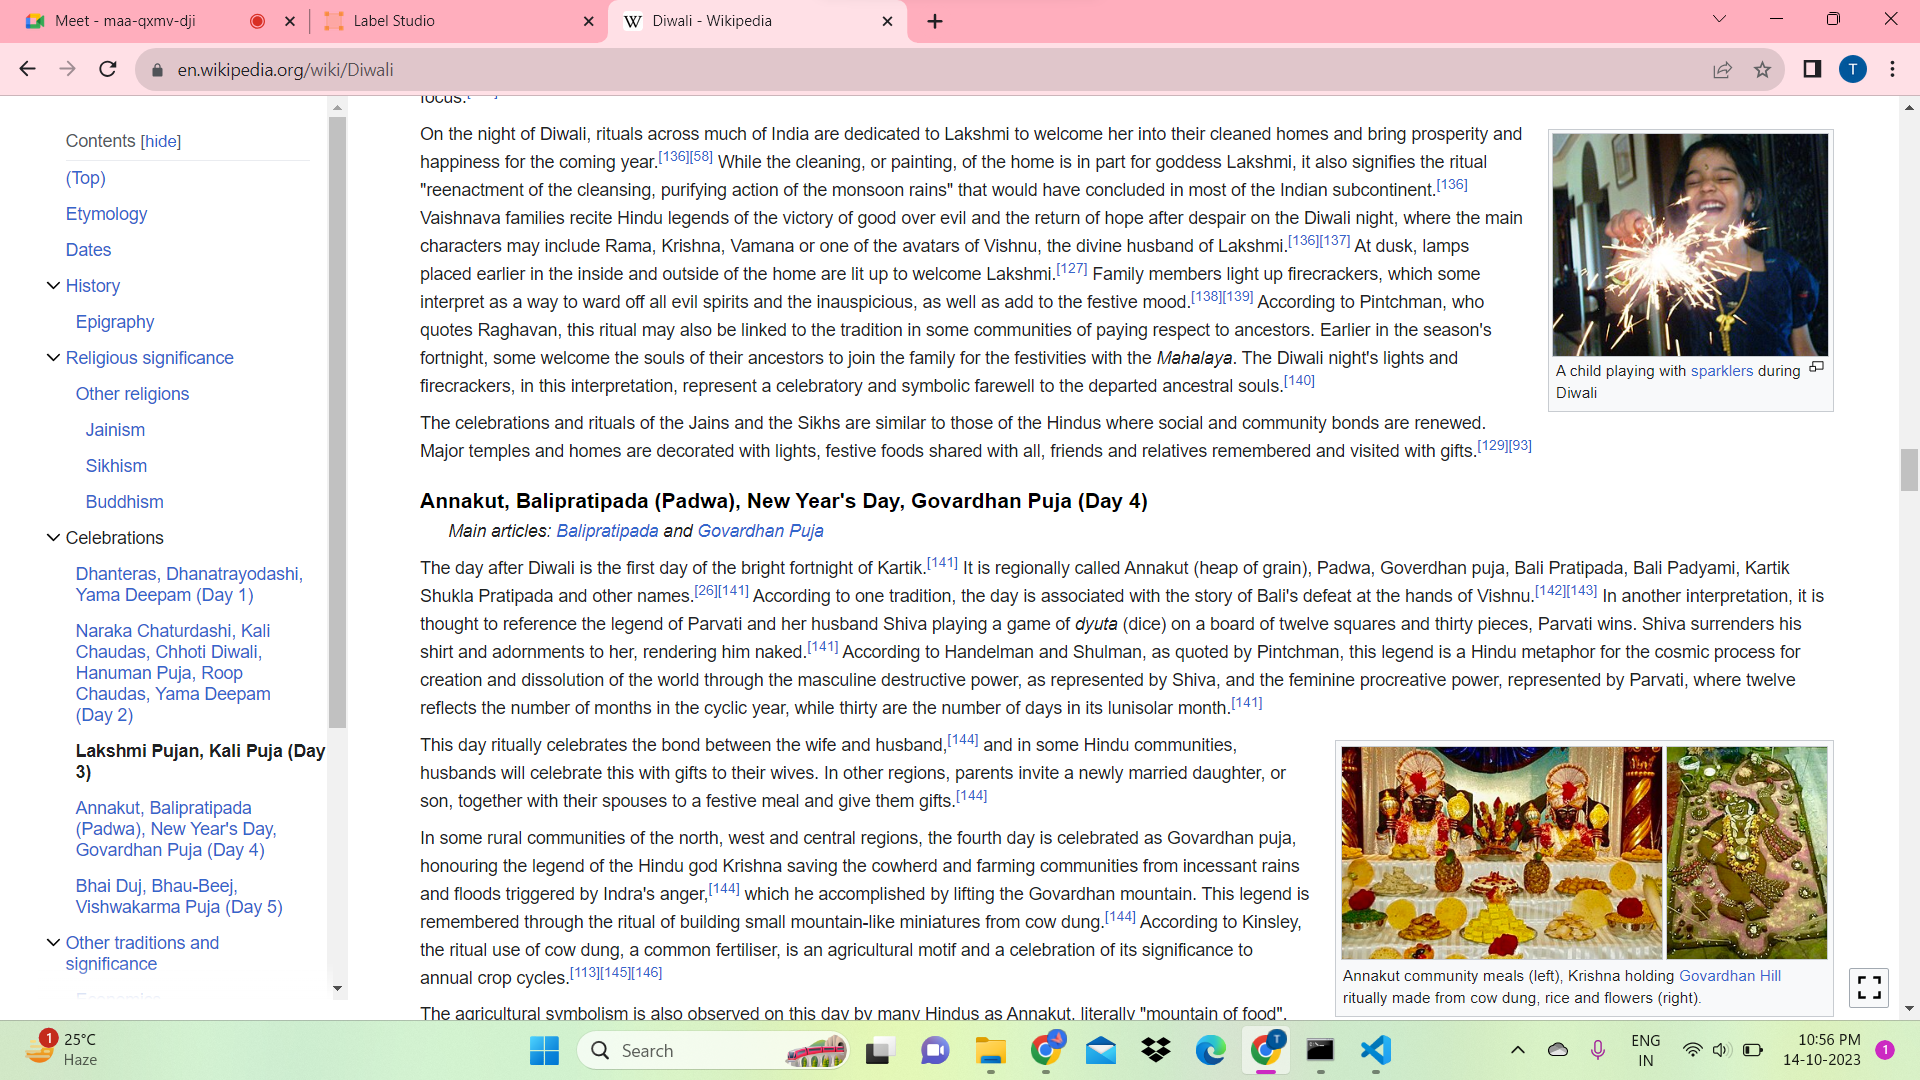Image: (1336, 742, 1659, 969), (1543, 119, 1825, 359), (1659, 740, 1838, 963)
Paragraph: (414, 116, 1536, 394), (404, 550, 1842, 720), (407, 824, 1331, 994), (407, 727, 1292, 818), (404, 410, 1523, 479), (54, 737, 343, 981), (30, 272, 291, 516), (34, 522, 315, 732), (397, 485, 1188, 539), (47, 121, 245, 278)
